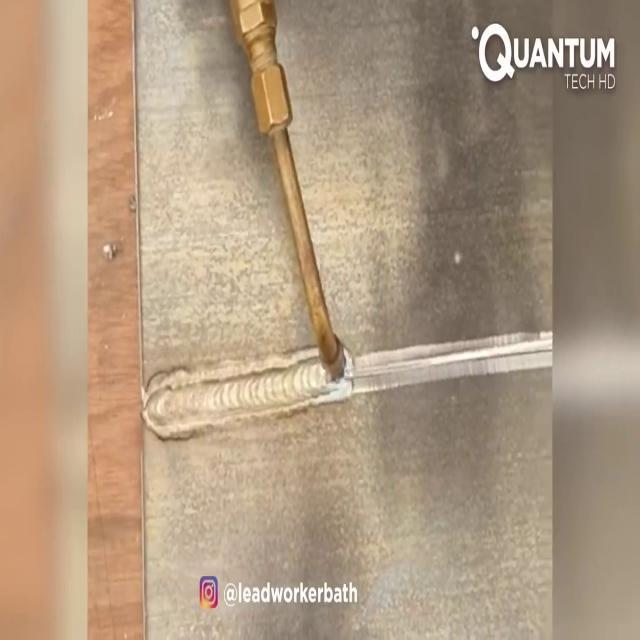Good Weld: (146, 364, 320, 414)
